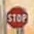stop: (5, 4, 28, 28)
